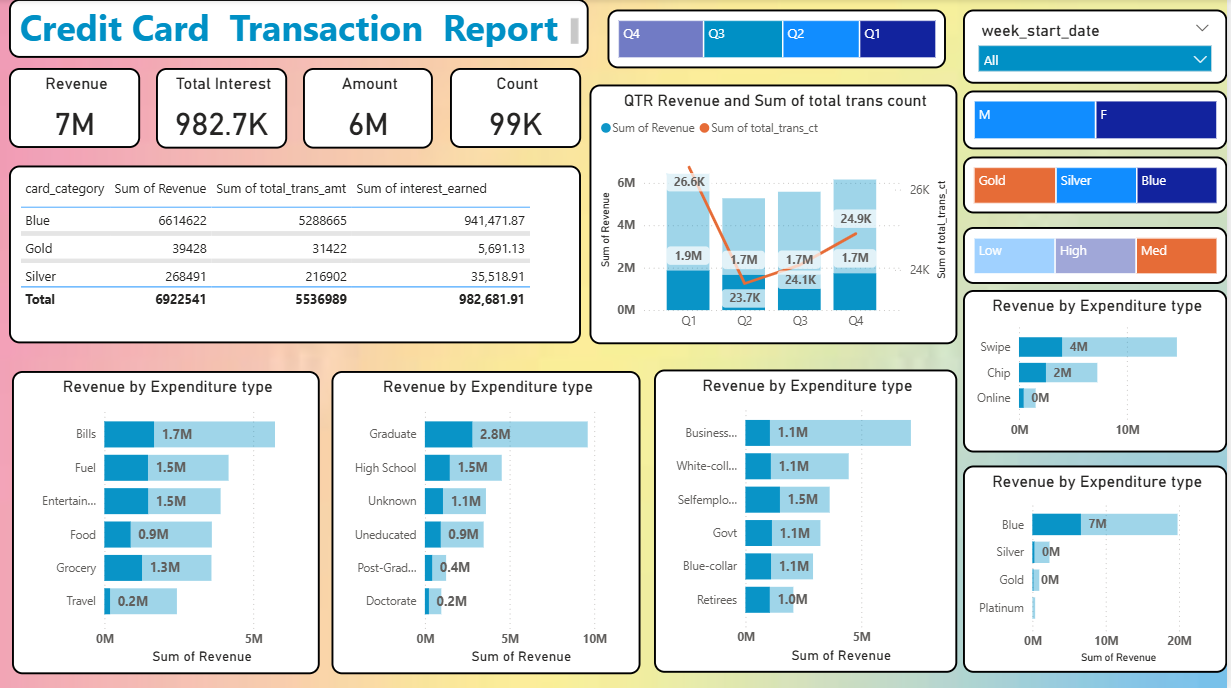

The dashboard page shown, as its layout file describes it:
{"tool":"powerbi","page":{"name":"Page 2","canvas":[1280,720],"ordinal":1},"visuals":[{"type":"textbox","box":[9.7,0,604.3,61.2],"z":0},{"type":"lineStackedColumnComboChart","title":"QTR Revenue and Sum of total trans  count","fields":{"Category":["public cc_detail.qtr"],"Y":["Sum(public cc_detail.Revenue)"],"Y2":["Sum(public cc_detail.total_trans_ct)"]},"box":[614,88.6,383.5,270.7],"z":1000},{"type":"barChart","title":"Revenue by Expenditure type","fields":{"Category":["public cc_detail.exp_type"],"Y":["Sum(public cc_detail.Revenue)"]},"box":[12.9,388.4,320.7,315.8],"z":2000},{"type":"barChart","title":"Revenue by Expenditure type","fields":{"Y":["Sum(public cc_detail.Revenue)"],"Category":["public cust_detail.education_level"]},"box":[344.8,388.4,322.3,315.8],"z":3000},{"type":"barChart","title":"Revenue by Expenditure type","fields":{"Y":["Sum(public cc_detail.Revenue)"],"Category":["public cust_detail.customer_job"]},"box":[681.6,386.7,315.8,315.8],"z":4000},{"type":"barChart","title":"Revenue by Expenditure type","fields":{"Y":["Sum(public cc_detail.Revenue)"],"Category":["public cc_detail.card_category"]},"box":[1003.9,486.7,275.6,215.9],"z":5000},{"type":"barChart","title":"Revenue by Expenditure type","fields":{"Y":["Sum(public cc_detail.Revenue)"],"Category":["public cc_detail.use_chip"]},"box":[1003.9,302.9,275.6,169.2],"z":6000},{"type":"tableEx","fields":{"Values":["public cc_detail.card_category","Sum(public cc_detail.Revenue)","Sum(public cc_detail.total_trans_amt)","Sum(public cc_detail.interest_earned)"]},"box":[9.7,174,596.2,185.3],"z":7000},{"type":"cardVisual","title":"Revenue","fields":{"Data":["Sum(public cc_detail.Revenue)"]},"box":[9.6,72.3,136.6,83.6],"z":8000},{"type":"cardVisual","title":"Count","fields":{"Data":["Sum(public cc_detail.total_trans_ct)"]},"box":[469.4,72.3,136.6,83.6],"z":9000},{"type":"cardVisual","title":"Amount","fields":{"Data":["Sum(public cc_detail.total_trans_amt)"]},"box":[315.8,72.5,135.4,83.8],"z":10000},{"type":"cardVisual","title":"Total Interest","fields":{"Data":["Sum(public cc_detail.interest_earned)"]},"box":[162.8,72.5,137,83.8],"z":11000},{"type":"slicer","fields":{"Values":["public cc_detail.week_start_date"]},"box":[1003.9,11.3,275.6,77.3],"z":12000},{"type":"treemap","fields":{"Group":["public cc_detail.qtr"],"Values":["Avg(public cc_detail.client_num)"]},"box":[633.3,11.3,352.9,61.2],"z":13000},{"type":"treemap","fields":{"Values":["Avg(public cc_detail.client_num)"],"Group":["public cust_detail.gender"]},"box":[1003.9,95.1,275.6,61.2],"z":14000},{"type":"treemap","fields":{"Values":["Avg(public cc_detail.client_num)"],"Group":["public cc_detail.card_category"]},"box":[1003.9,164.4,275.6,59.6],"z":15000},{"type":"treemap","fields":{"Values":["Avg(public cc_detail.client_num)"],"Group":["public cust_detail.IncomeGroup"]},"box":[1003.9,236.9,275.6,59.6],"z":16000}]}

Visuals, with their boxes in screenshot pixels (x1, y1, x2, y2), scaled from the page's 1280x720 canvas onto the 1231x688 screenshot:
textbox: (x1=9, y1=0, x2=590, y2=58)
"QTR Revenue and Sum of total trans  count" lineStackedColumnComboChart: (x1=590, y1=85, x2=959, y2=343)
"Revenue by Expenditure type" barChart: (x1=12, y1=371, x2=321, y2=673)
"Revenue by Expenditure type" barChart: (x1=332, y1=371, x2=642, y2=673)
"Revenue by Expenditure type" barChart: (x1=656, y1=370, x2=959, y2=671)
"Revenue by Expenditure type" barChart: (x1=965, y1=465, x2=1230, y2=671)
"Revenue by Expenditure type" barChart: (x1=965, y1=289, x2=1230, y2=451)
tableEx - public cc_detail.card_category x Sum(public cc_detail.Revenue): (x1=9, y1=166, x2=583, y2=343)
"Revenue" cardVisual: (x1=9, y1=69, x2=141, y2=149)
"Count" cardVisual: (x1=451, y1=69, x2=583, y2=149)
"Amount" cardVisual: (x1=304, y1=69, x2=434, y2=149)
"Total Interest" cardVisual: (x1=157, y1=69, x2=288, y2=149)
slicer - public cc_detail.week_start_date: (x1=965, y1=11, x2=1230, y2=85)
treemap - public cc_detail.qtr x Avg(public cc_detail.client_num): (x1=609, y1=11, x2=948, y2=69)
treemap - Avg(public cc_detail.client_num) x public cust_detail.gender: (x1=965, y1=91, x2=1230, y2=149)
treemap - Avg(public cc_detail.client_num) x public cc_detail.card_category: (x1=965, y1=157, x2=1230, y2=214)
treemap - Avg(public cc_detail.client_num) x public cust_detail.IncomeGroup: (x1=965, y1=226, x2=1230, y2=283)
